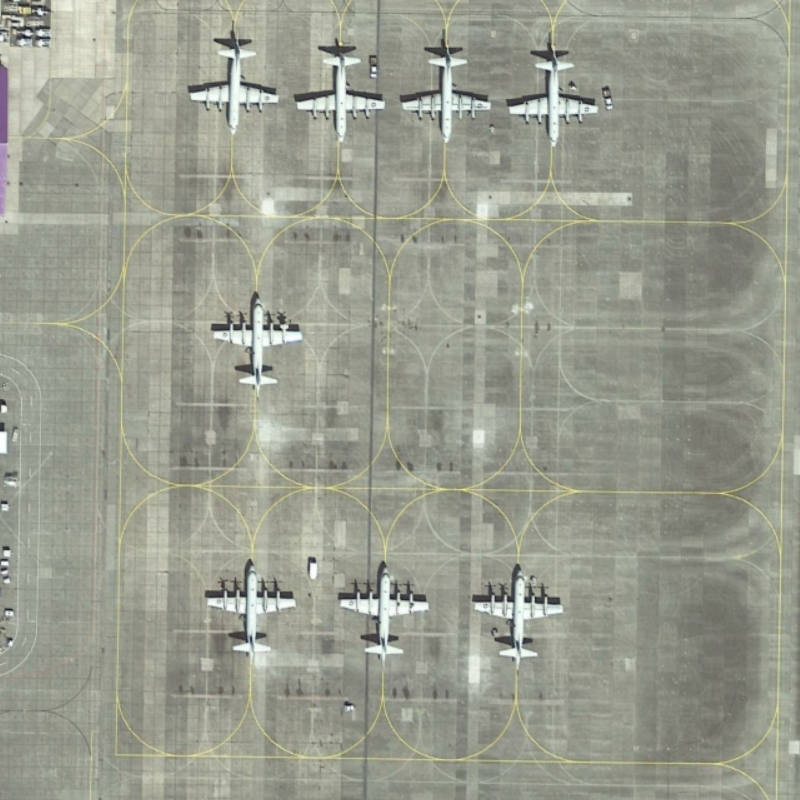A9: (195, 544, 302, 672), (460, 555, 570, 676), (203, 287, 310, 403), (176, 26, 286, 138), (334, 551, 434, 674), (504, 36, 605, 153), (291, 36, 392, 152), (395, 34, 495, 142)
